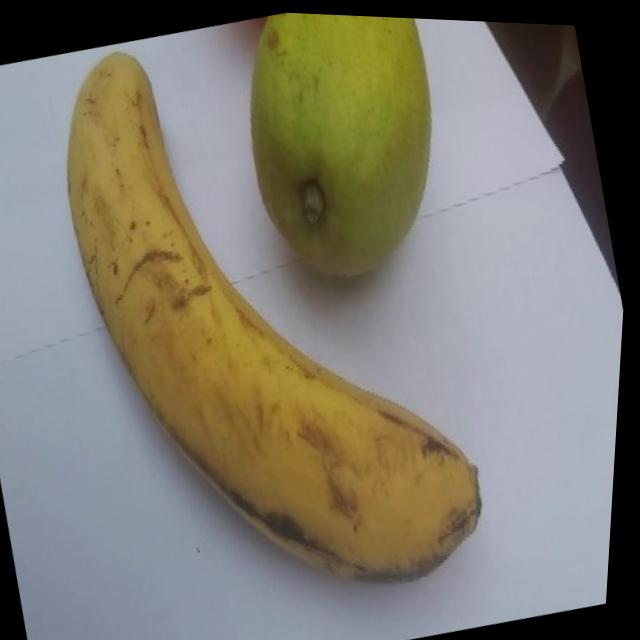Banana: (20, 2, 528, 640)
